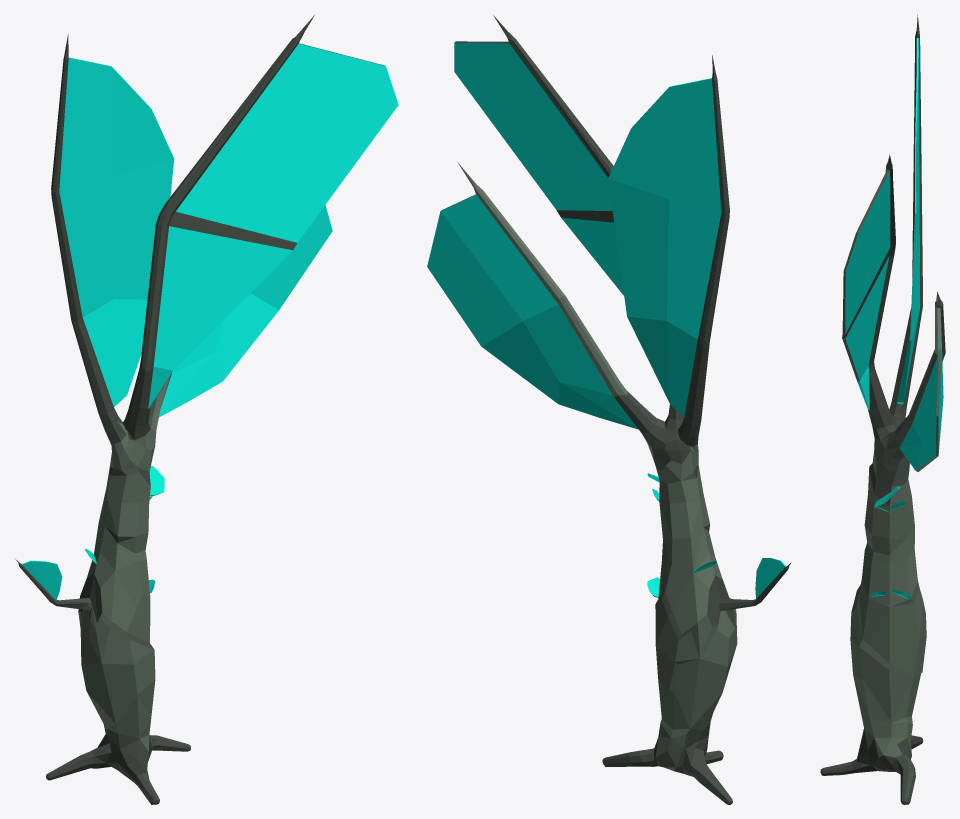
File: SM_Flora_03.glb
The picture shows the model from 3 angles, left to right: view 1: azimuth 30°, elevation 25°; view 2: azimuth 150°, elevation 25°; view 3: azimuth 270°, elevation 25°; orthographic projection.
Parts seen in each view (by area): view 1: SM_Flora_03; view 2: SM_Flora_03; view 3: SM_Flora_03.
Part boxes in pixels (bbox=[...]): SM_Flora_03: bbox=[14, 15, 398, 804]; SM_Flora_03: bbox=[427, 15, 791, 804]; SM_Flora_03: bbox=[820, 14, 945, 804].
Size of the model in its own units: 3.6 by 7.14 by 1.09.
Materials: 1 (1 with a texture image).
